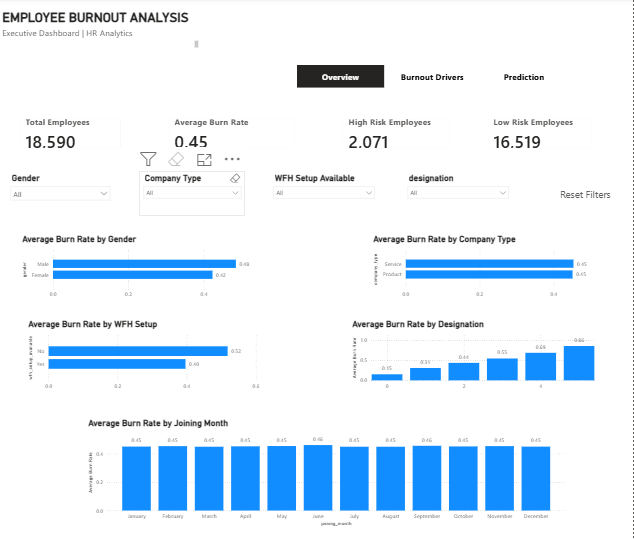

What the dashboard file says about the page in this screenshot:
{"tool":"powerbi","page":{"name":"Overview","canvas":[1400,1200],"ordinal":0},"visuals":[{"type":"cardVisual","fields":{"Data":["employee_burnout_analysis_cleaned.Total Employees"]},"box":[26.8,251.2,258.5,100],"z":0},{"type":"cardVisual","fields":{"Data":["employee_burnout_analysis_cleaned.Average Burn Rate"]},"box":[356.9,251.2,312.2,100],"z":1000},{"type":"cardVisual","fields":{"Data":["employee_burnout_analysis_cleaned.High Risk Employees"]},"box":[740.7,251.2,270.7,100],"z":2000},{"type":"cardVisual","fields":{"Data":["employee_burnout_analysis_cleaned.Low Risk Employees"]},"box":[1063.4,251.2,263.4,100],"z":3000},{"type":"slicer","fields":{"Values":["employee_burnout_analysis_cleaned.company_type"]},"box":[306.7,382.9,236.6,100],"z":4000},{"type":"slicer","fields":{"Values":["employee_burnout_analysis_cleaned.wfh_setup_available"]},"box":[596.3,382.9,243.9,100],"z":5000},{"type":"slicer","fields":{"Values":["employee_burnout_analysis_cleaned.gender"]},"box":[12.2,382.9,241.5,100],"z":6000},{"type":"slicer","fields":{"Values":["employee_burnout_analysis_cleaned.designation"]},"box":[893.3,382.9,243.9,100],"z":7000},{"type":"pageNavigator","box":[657.1,148.1,600,50],"z":8000},{"type":"textbox","title":"EMPLOYEE BURNOUT ANALYSIS","box":[0,26.8,443.9,87.8],"z":9000},{"type":"clusteredBarChart","title":"Average Burn Rate by Gender","fields":{"Category":["employee_burnout_analysis_cleaned.gender"],"Y":["employee_burnout_analysis_cleaned.Average Burn Rate"]},"box":[43.9,522,522,151.2],"z":10000},{"type":"clusteredBarChart","title":"Average Burn Rate by Company Type","fields":{"Category":["employee_burnout_analysis_cleaned.company_type"],"Y":["employee_burnout_analysis_cleaned.Average Burn Rate"]},"box":[822,522,499.5,150.3],"z":11000},{"type":"clusteredBarChart","title":"Average Burn Rate by WFH Setup","fields":{"Y":["employee_burnout_analysis_cleaned.Average Burn Rate"],"Category":["employee_burnout_analysis_cleaned.wfh_setup_available"]},"box":[58.5,709.8,522,165.9],"z":12000},{"type":"clusteredColumnChart","title":"Average Burn Rate by Designation","fields":{"Category":["employee_burnout_analysis_cleaned.designation"],"Y":["employee_burnout_analysis_cleaned.Average Burn Rate"]},"box":[775.6,709.8,546.3,165.9],"z":13000},{"type":"clusteredColumnChart","title":"Average Burn Rate by Joining Month","fields":{"Category":["employee_burnout_analysis_cleaned.joining_month"],"Y":["employee_burnout_analysis_cleaned.Average Burn Rate"]},"box":[190.2,929.3,1065.9,243.9],"z":14000},{"type":"actionButton","box":[1190.2,382.9,209.8,100],"z":14001}]}

Visuals, with their boxes in screenshot pixels (x1, y1, x2, y2), scaled from the page's 1400x1200 canvas onto the 634x539 screenshot:
cardVisual - employee_burnout_analysis_cleaned.Total Employees: [x1=12, y1=113, x2=129, y2=158]
cardVisual - employee_burnout_analysis_cleaned.Average Burn Rate: [x1=162, y1=113, x2=303, y2=158]
cardVisual - employee_burnout_analysis_cleaned.High Risk Employees: [x1=335, y1=113, x2=458, y2=158]
cardVisual - employee_burnout_analysis_cleaned.Low Risk Employees: [x1=482, y1=113, x2=601, y2=158]
slicer - employee_burnout_analysis_cleaned.company_type: [x1=139, y1=172, x2=246, y2=217]
slicer - employee_burnout_analysis_cleaned.wfh_setup_available: [x1=270, y1=172, x2=380, y2=217]
slicer - employee_burnout_analysis_cleaned.gender: [x1=6, y1=172, x2=115, y2=217]
slicer - employee_burnout_analysis_cleaned.designation: [x1=405, y1=172, x2=515, y2=217]
pageNavigator: [x1=298, y1=67, x2=569, y2=89]
"EMPLOYEE BURNOUT ANALYSIS" textbox: [x1=0, y1=12, x2=201, y2=51]
"Average Burn Rate by Gender" clusteredBarChart: [x1=20, y1=234, x2=256, y2=302]
"Average Burn Rate by Company Type" clusteredBarChart: [x1=372, y1=234, x2=598, y2=302]
"Average Burn Rate by WFH Setup" clusteredBarChart: [x1=26, y1=319, x2=263, y2=393]
"Average Burn Rate by Designation" clusteredColumnChart: [x1=351, y1=319, x2=599, y2=393]
"Average Burn Rate by Joining Month" clusteredColumnChart: [x1=86, y1=417, x2=569, y2=527]
actionButton: [x1=539, y1=172, x2=633, y2=217]
